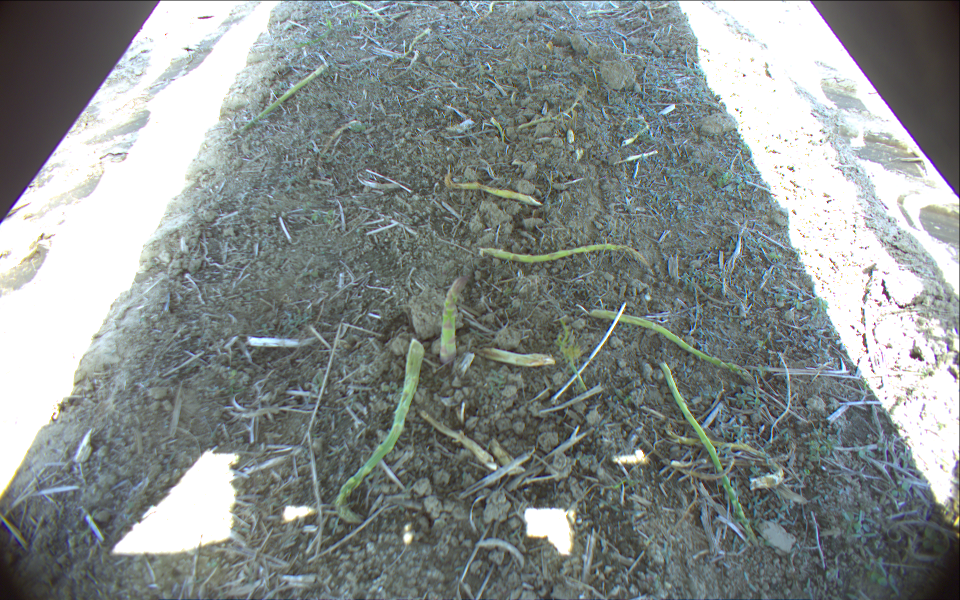aspa: (332, 339, 425, 528), (662, 361, 752, 540), (589, 308, 757, 385), (234, 66, 323, 137), (479, 243, 654, 272), (439, 270, 473, 365), (520, 92, 586, 129), (450, 180, 542, 206), (388, 30, 431, 70), (584, 35, 644, 61), (618, 113, 651, 146), (586, 2, 637, 16), (617, 150, 658, 167), (347, 1, 382, 20), (480, 1, 510, 20), (491, 117, 507, 143)
